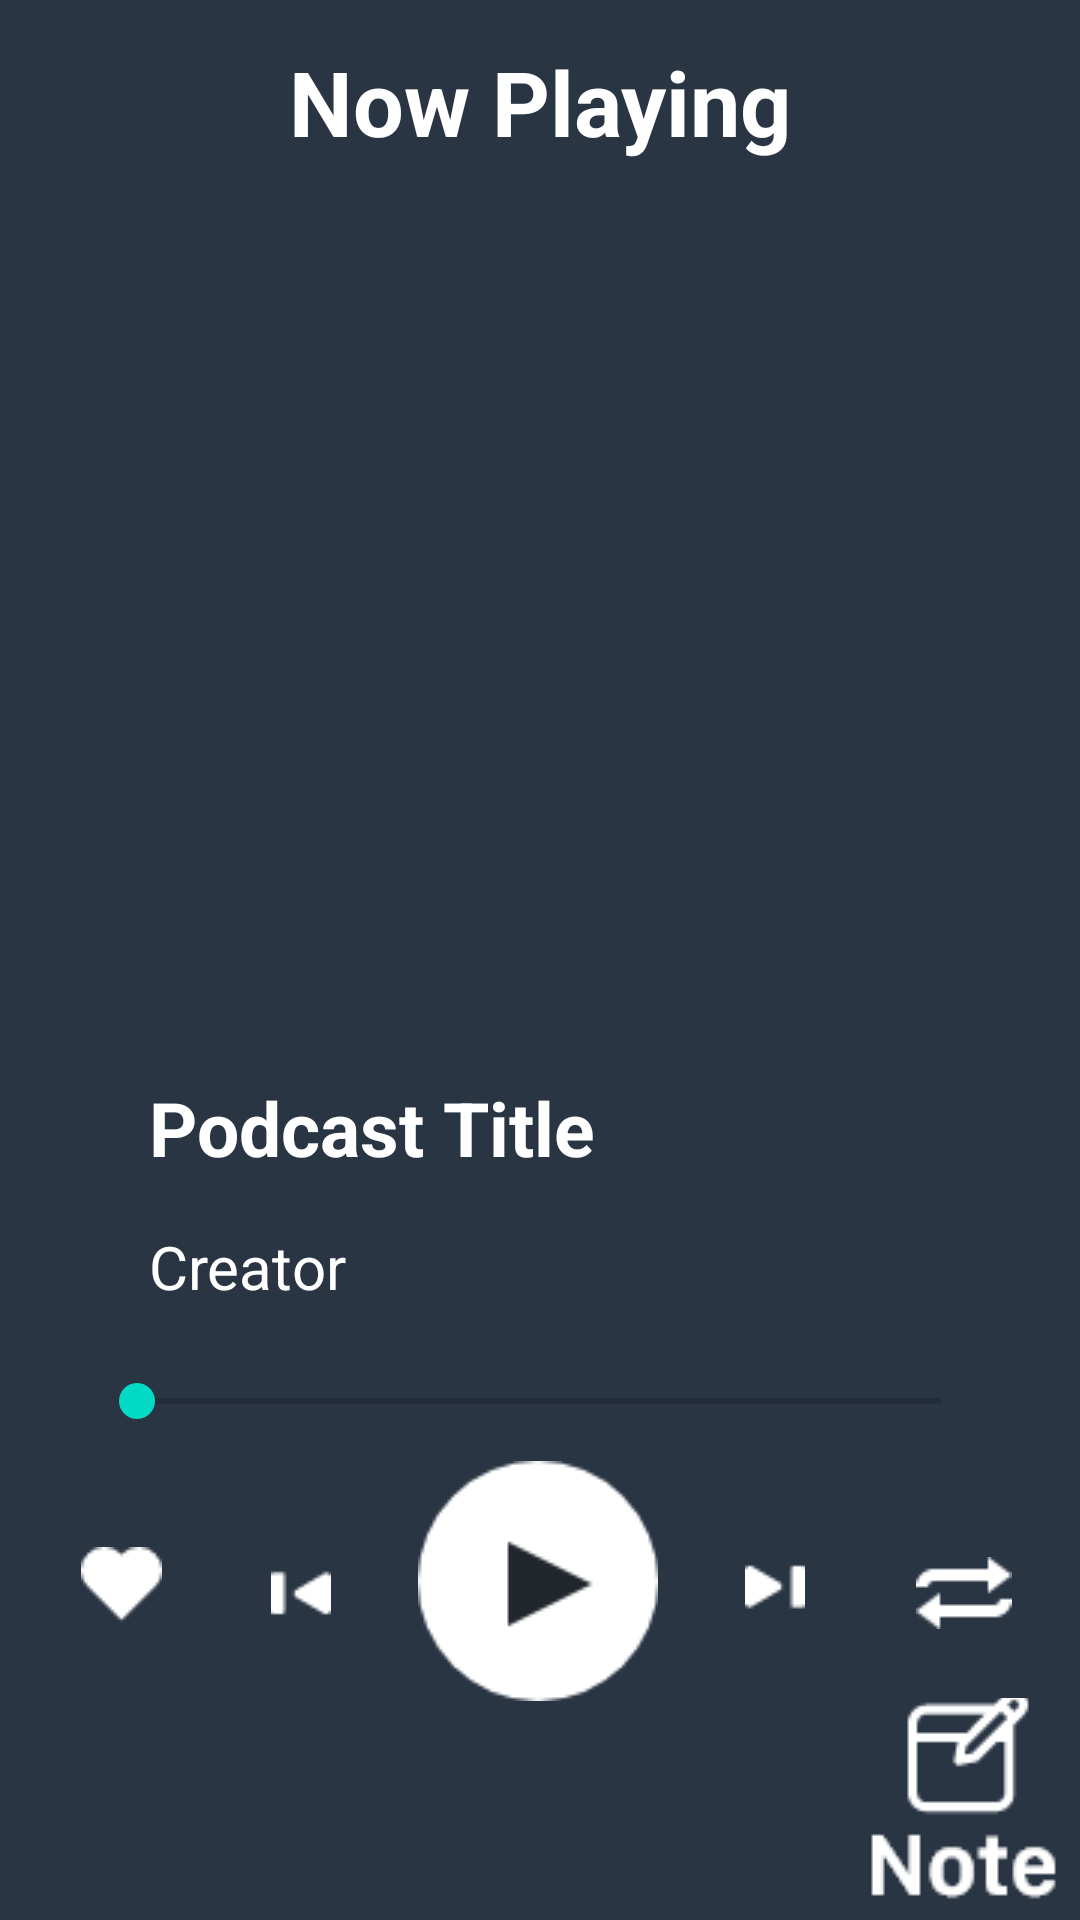

Named icons in this screenshot (1080 x 1920) and their centers, [x,y]:
back: [301,1593]
heartbutton: [121,1584]
loop: [964,1593]
next: [775,1587]
play: [538,1581]
